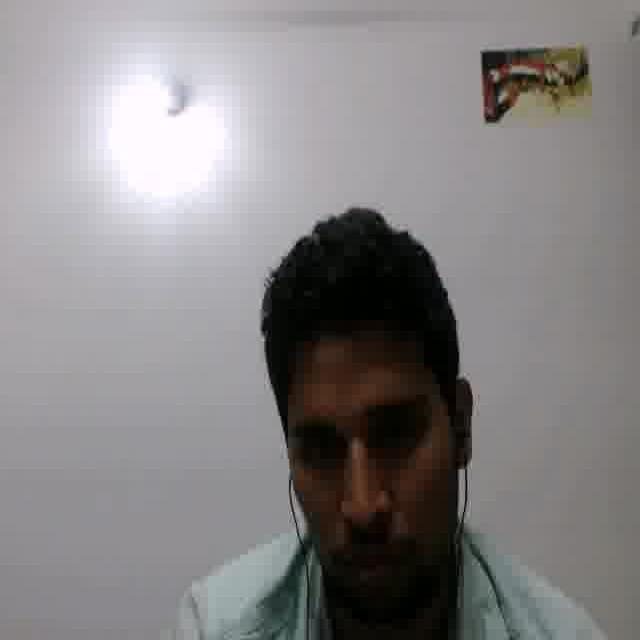Boredom: (279, 324, 451, 616)
